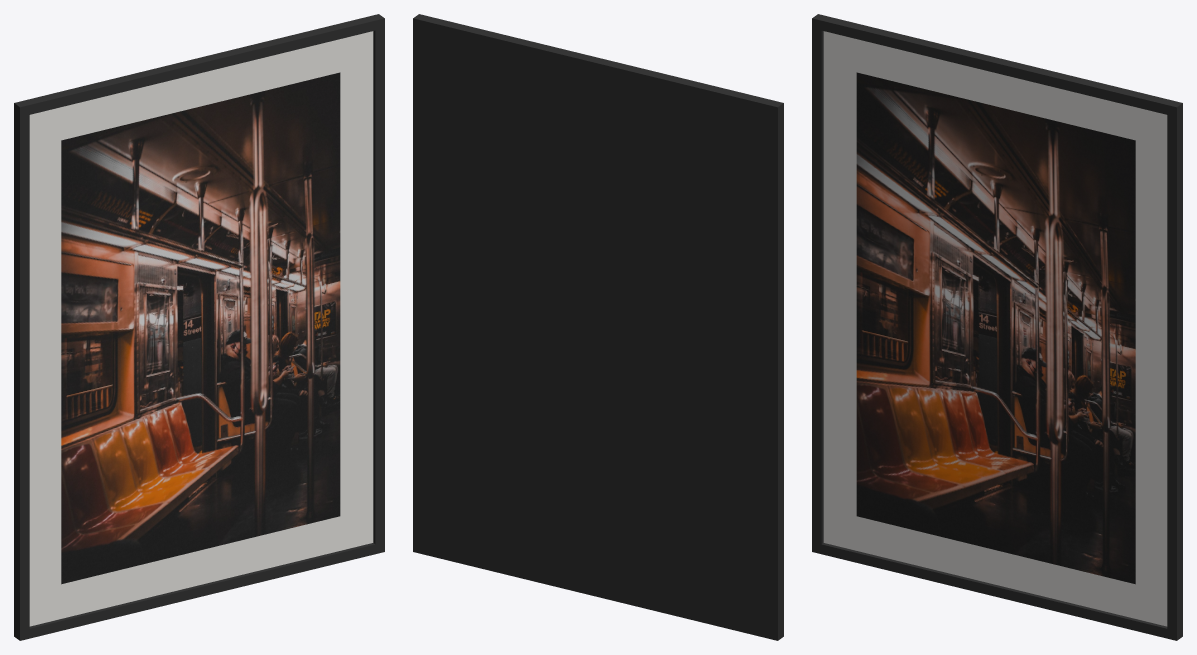
File: nattvagnen-90.gltf
The picture shows the model from 3 angles, left to right: view 1: azimuth 30°, elevation 25°; view 2: azimuth 150°, elevation 25°; view 3: azimuth 330°, elevation 25°; orthographic projection.
Visible parts, largest first — view 1: tavla; view 2: tavla; view 3: tavla.
Part boxes in pixels (x1,y1,x2,y2): tavla: (14,14,384,640); tavla: (413,14,783,640); tavla: (812,14,1182,640).
Bounding box in the file's own units: 0.7741 × 1.08 × 0.022.
3 materials, 1 textured.
